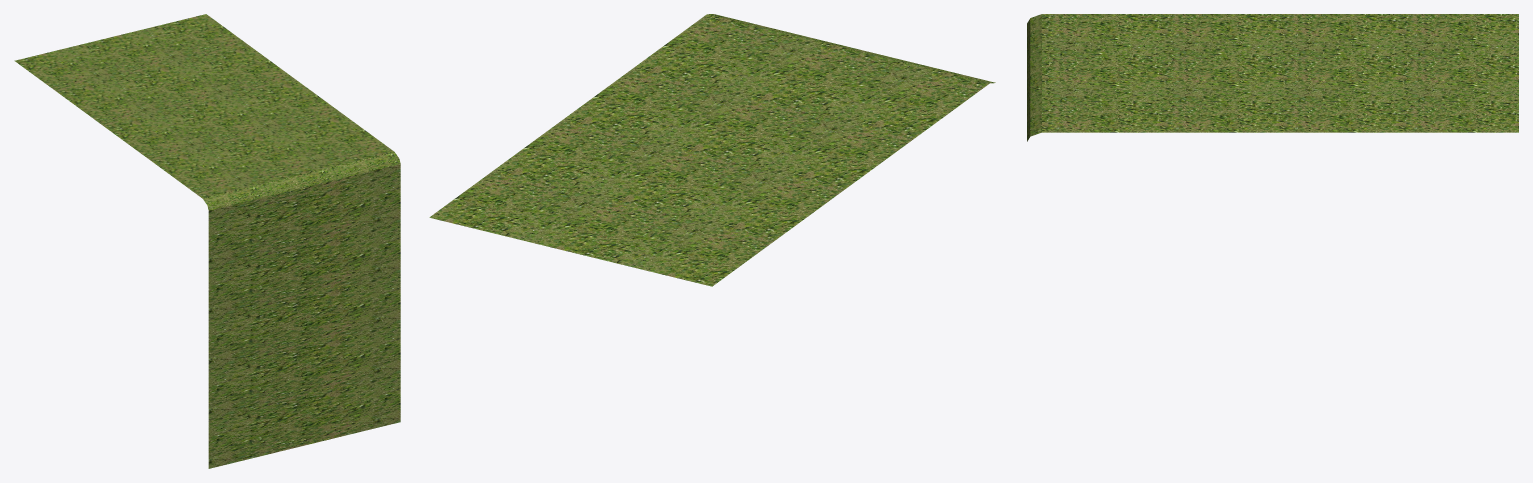
File: waterfallSludge.glb
3 views of the same model, side by side, from view 1: azimuth 30°, elevation 25°; view 2: azimuth 150°, elevation 25°; view 3: azimuth 270°, elevation 25° (orthographic). The views are drawn at different scales.
Parts seen in each view (by area): view 1: Plane; view 2: Plane; view 3: Plane.
Boxes of the visible parts, left/top/right/bottom form: Plane: left=14, top=14, right=400, bottom=468; Plane: left=429, top=14, right=995, bottom=286; Plane: left=1027, top=14, right=1518, bottom=141.
Bounding box in the file's own units: 7 × 9.26 × 12.28.
1 material, 1 textured.
